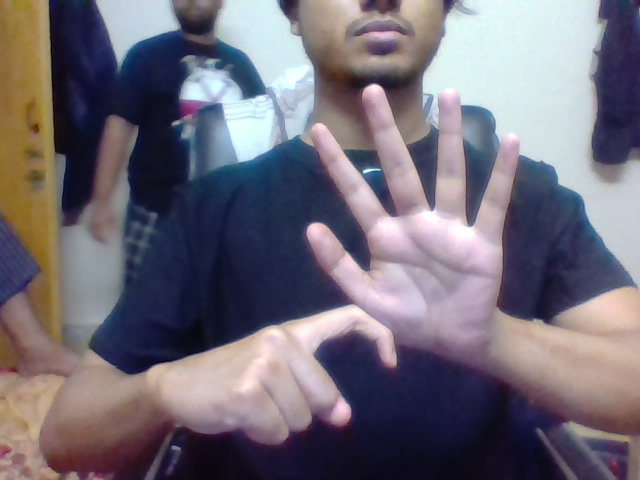R: (267, 301, 400, 426)
